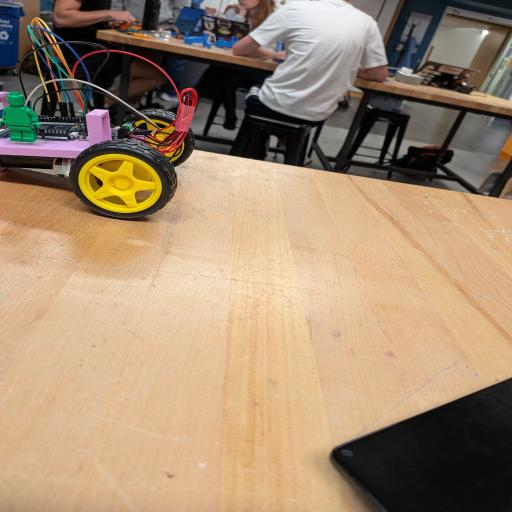Minifig: (0, 92, 41, 142)
